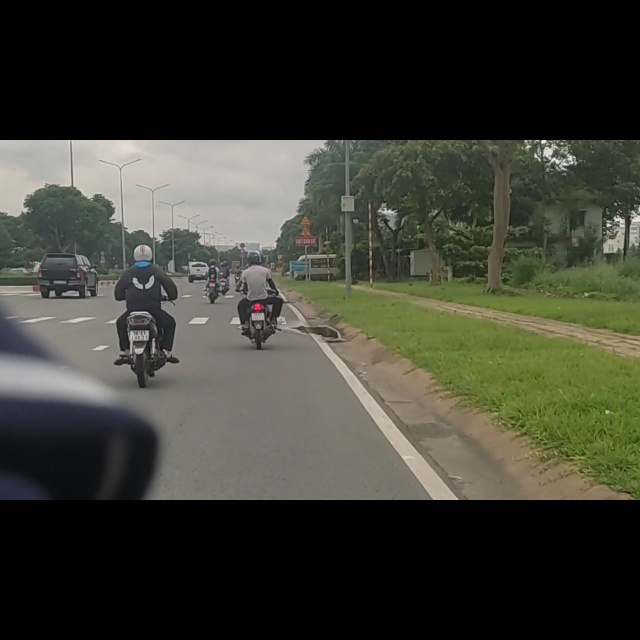bien_nguy_hiem: (300, 133, 312, 152), (301, 155, 312, 172), (240, 183, 245, 192)
